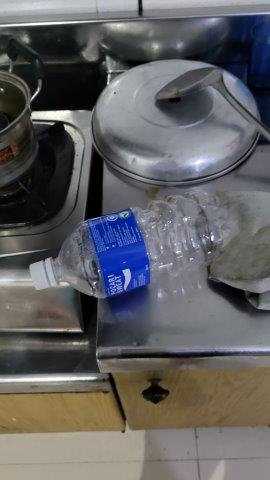botolplastik: (24, 191, 235, 299)
